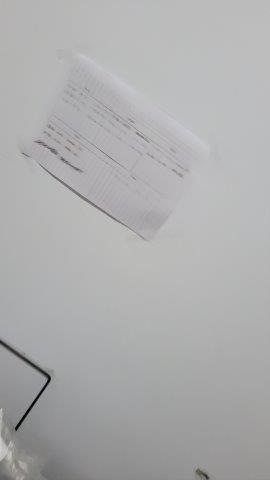kertas: (24, 56, 211, 246)
